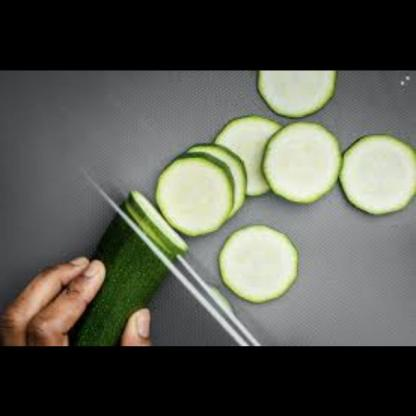vegetable marrow: (64, 190, 193, 345), (148, 125, 258, 225), (215, 208, 309, 302), (336, 122, 416, 226), (258, 113, 344, 209), (207, 106, 288, 201), (244, 70, 349, 120)
